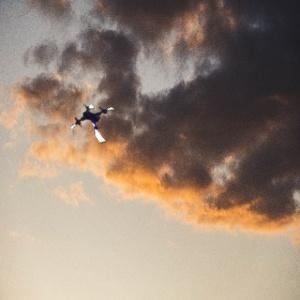drone: (71, 98, 123, 150)
